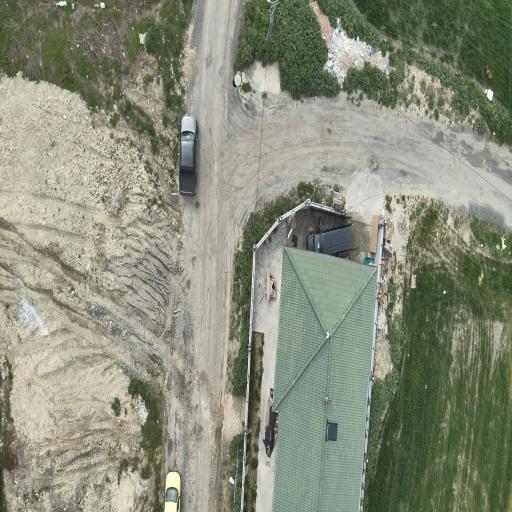car: (178, 115, 197, 195), (307, 225, 352, 255), (164, 471, 179, 511)
